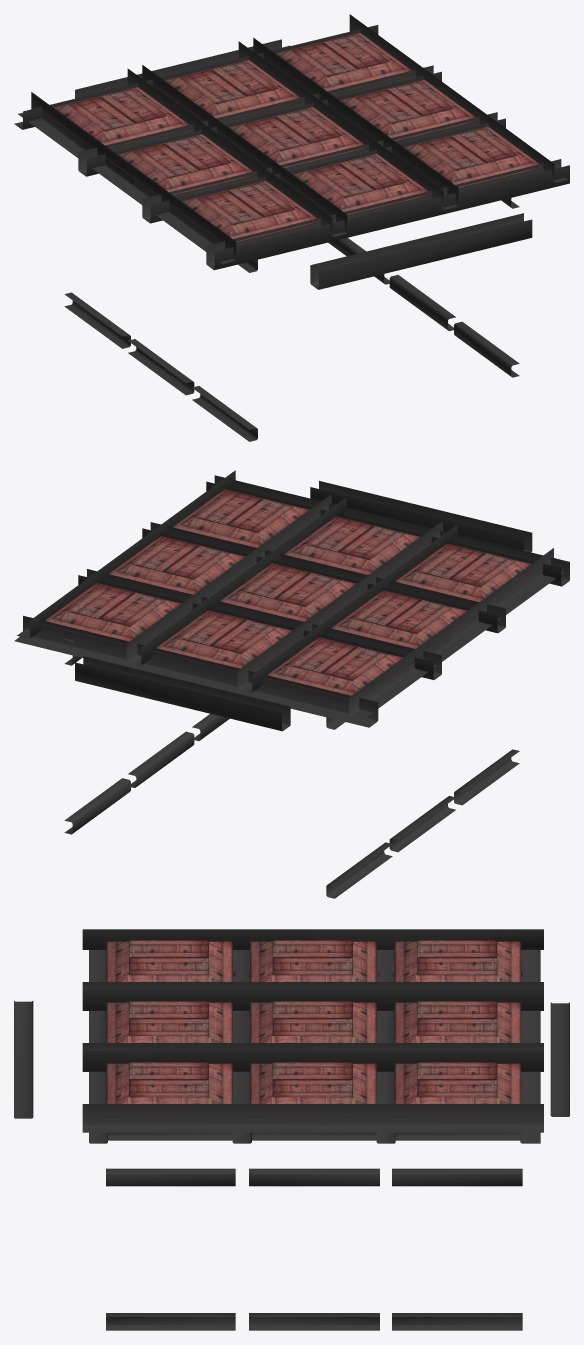
File: SM_MeditationTimber.FBX
The picture shows the model from 3 angles, top to bottom: view 1: azimuth 30°, elevation 25°; view 2: azimuth 150°, elevation 25°; view 3: azimuth 270°, elevation 25°; orthographic projection. The views are drawn at different scales.
Visible parts, largest first — view 1: SM_MeditationTimber; view 2: SM_MeditationTimber; view 3: SM_MeditationTimber.
Boxes of the visible parts, bbox=[...] form: SM_MeditationTimber: bbox=[14, 14, 569, 441]; SM_MeditationTimber: bbox=[14, 470, 569, 898]; SM_MeditationTimber: bbox=[14, 929, 569, 1330].
Bounding box in the file's own units: 1024 × 1234 × 588.
